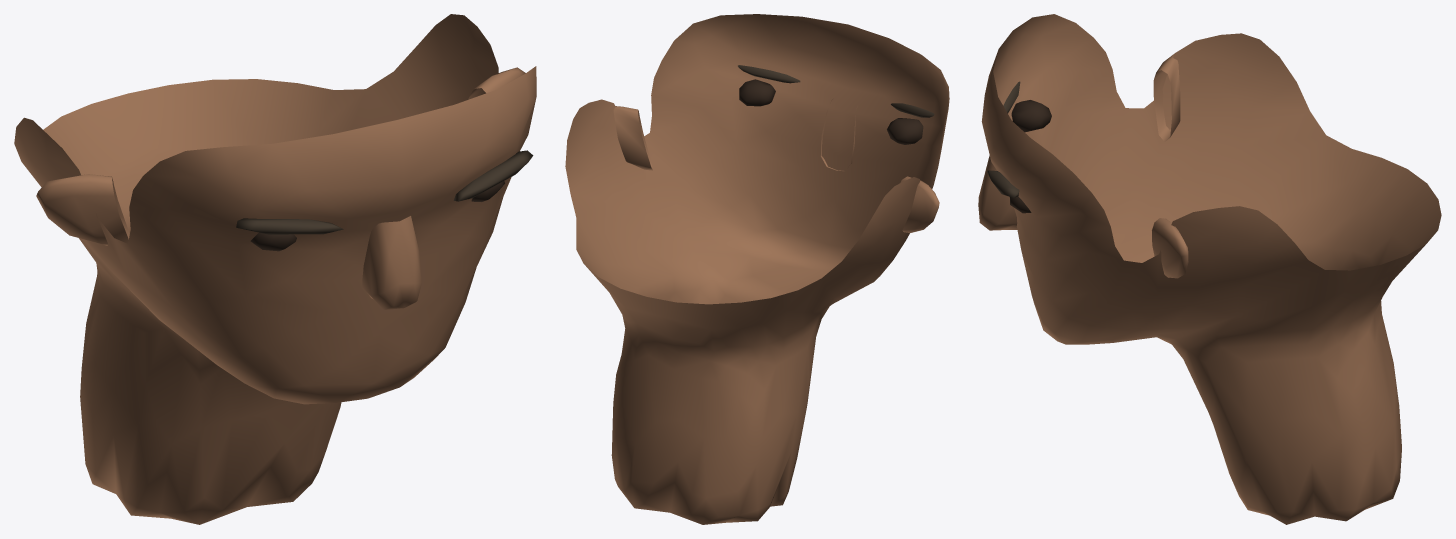
File: punk-man-head.glb
3 views of the same model, side by side, from view 1: azimuth 30°, elevation 25°; view 2: azimuth 150°, elevation 25°; view 3: azimuth 270°, elevation 25° (orthographic). The views are drawn at different scales.
Parts seen in each view (by area): view 1: Identity_punk-man; view 2: Identity_punk-man; view 3: Identity_punk-man.
Part boxes in pixels (bbox=[...]): Identity_punk-man: bbox=[14, 14, 536, 524]; Identity_punk-man: bbox=[565, 14, 949, 524]; Identity_punk-man: bbox=[978, 14, 1441, 524].
Size of the model in its own units: 1 by 0.9998 by 1.
